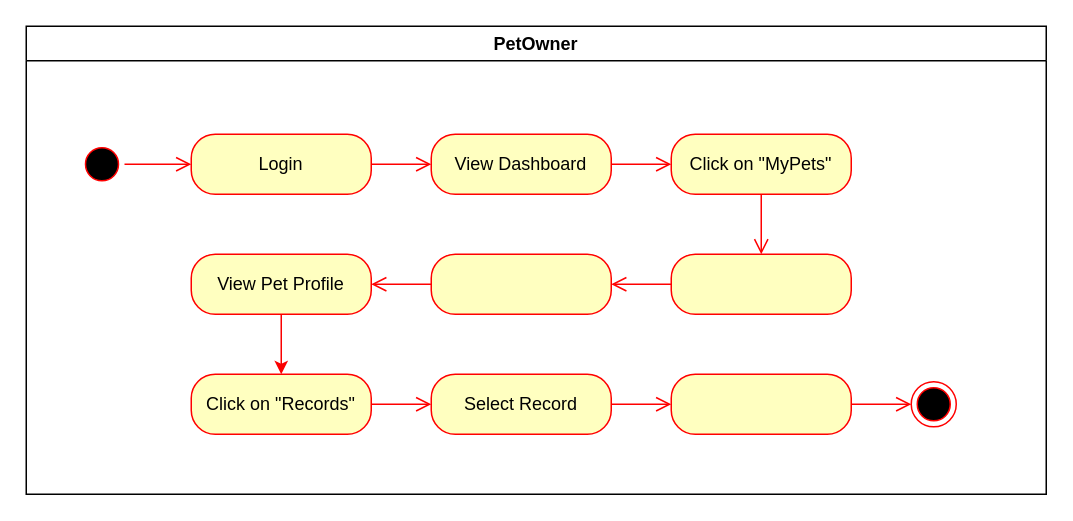
This 1073x521 diagram has some shape labels left out. Here are the shapes that lost their labels. From the top down, the centre of each, then its label:
At (520,283): "Select Pet".
At (760,283): "View Pet List".
At (760,403): "Select View AI Diagnosis".
